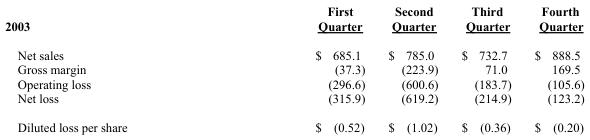table: (4, 3, 583, 133)
table column: (4, 3, 220, 133), (220, 3, 376, 133), (376, 3, 449, 133), (449, 3, 522, 133), (522, 3, 583, 133)
table column header: (4, 3, 583, 39)
table row: (4, 3, 583, 39), (4, 39, 583, 61), (4, 90, 583, 112), (4, 112, 583, 133), (4, 61, 583, 76), (4, 76, 583, 90)
